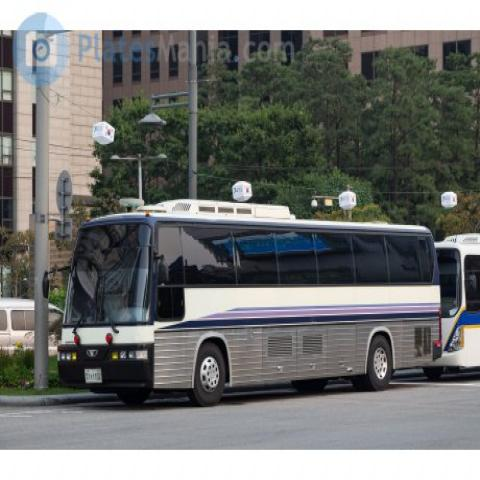LP: (78, 362, 108, 386)
